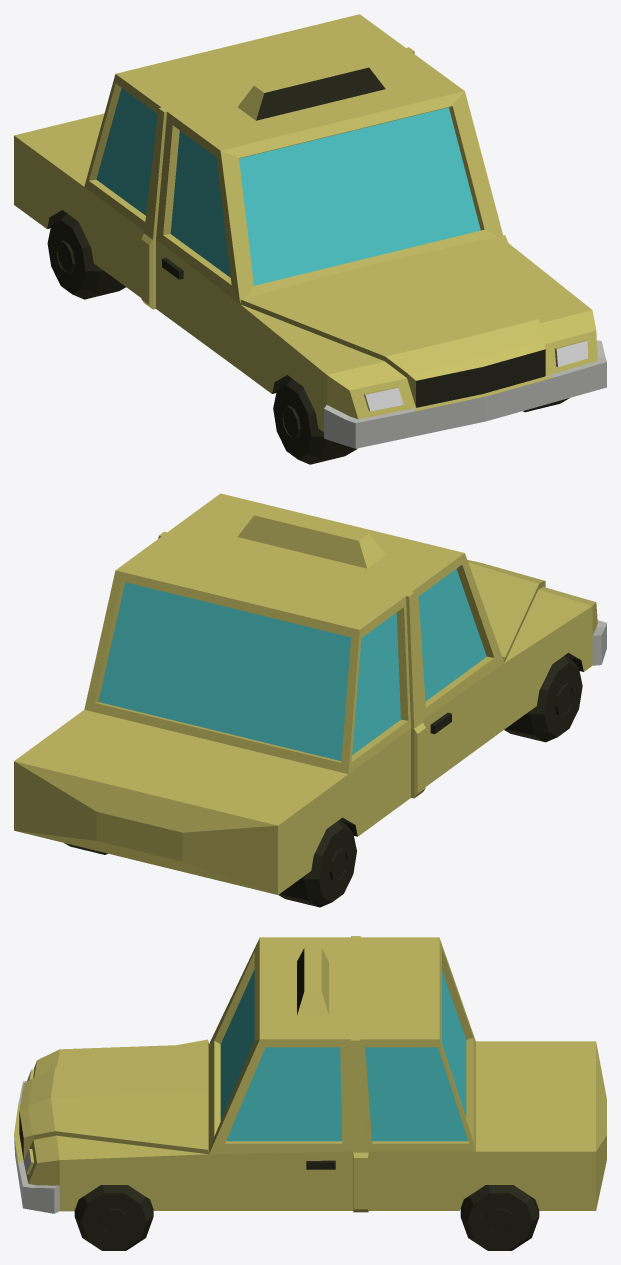
Rendered from taxi.glb.
The picture shows the model from 3 angles, top to bottom: view 1: azimuth 30°, elevation 25°; view 2: azimuth 150°, elevation 25°; view 3: azimuth 270°, elevation 25°; orthographic projection. The views are drawn at different scales.
Parts seen in each view (by area): view 1: BackWheels; view 2: BackWheels; view 3: BackWheels.
Part boxes in pixels (x1,y1,x2,y2): BackWheels: [14, 14, 606, 464]; BackWheels: [14, 493, 606, 907]; BackWheels: [14, 936, 606, 1250].
Size of the model in its own units: 1.84 by 1.69 by 3.97.
